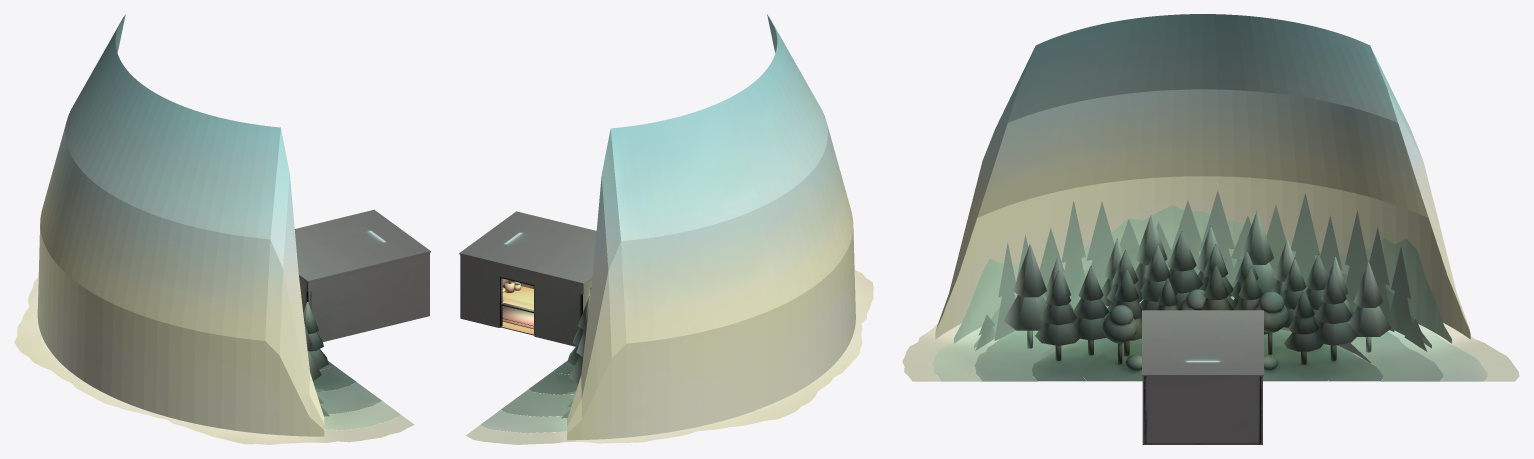
The model's file is lobby.glb.
3 renders of one model, left to right at view 1: azimuth 30°, elevation 25°; view 2: azimuth 150°, elevation 25°; view 3: azimuth 270°, elevation 25°, orthographic. The views are drawn at different scales.
Parts seen in each view (by area): view 1: shell, wall_near, ceiling; view 2: shell, wall_far, ceiling; view 3: shell, ceiling, wall_near.
Boxes of the visible parts, box(x1,y1,x2,y2) form: shell: box(14, 14, 414, 444); wall_near: box(306, 252, 429, 341); ceiling: box(294, 209, 430, 282); shell: box(466, 14, 873, 444); wall_far: box(460, 254, 592, 346); ceiling: box(459, 211, 596, 284); shell: box(902, 14, 1519, 444); ceiling: box(1142, 310, 1263, 376); wall_near: box(1142, 376, 1261, 444).
Bounding box in the file's own units: 15.83 × 12.12 × 22.77.
Materials: 1 (1 with a texture image).
